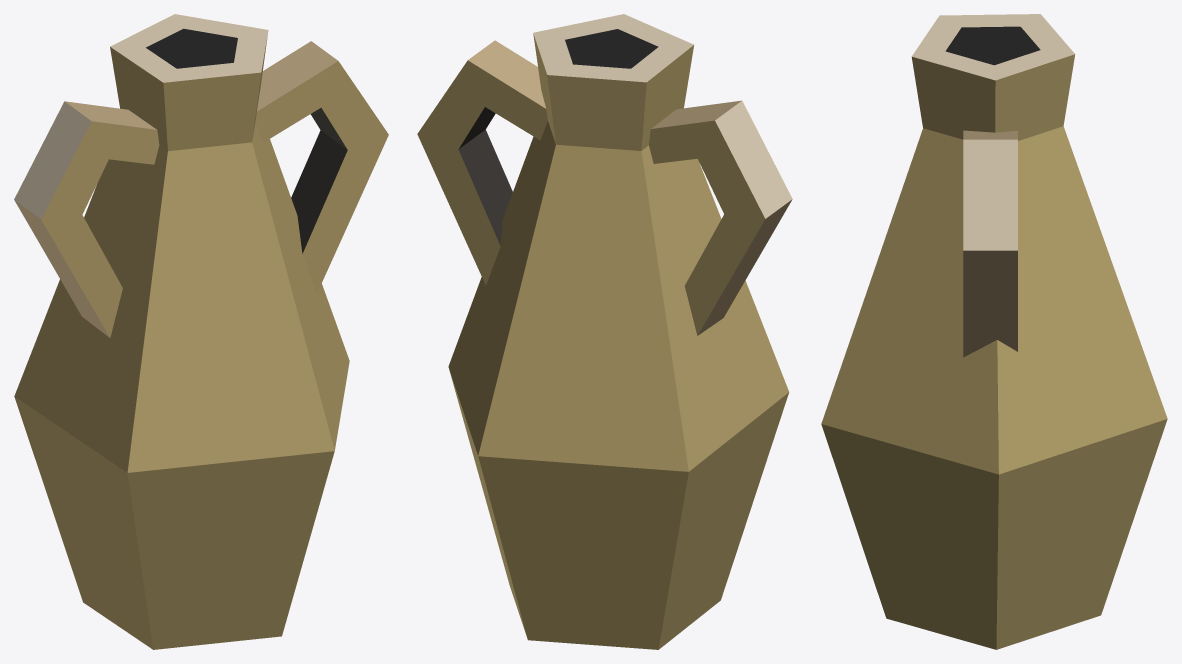
Rendered from TB_D_Prop_Jar_A.FBX.
3 views of the same model, side by side, from view 1: azimuth 30°, elevation 25°; view 2: azimuth 150°, elevation 25°; view 3: azimuth 270°, elevation 25° (orthographic).
Visible parts, largest first — view 1: TB_D_Prop_Jar_A; view 2: TB_D_Prop_Jar_A; view 3: TB_D_Prop_Jar_A.
Boxes of the visible parts, x1,y1,x2,y2 form: TB_D_Prop_Jar_A: [14, 14, 388, 649]; TB_D_Prop_Jar_A: [417, 14, 792, 649]; TB_D_Prop_Jar_A: [821, 14, 1167, 649].
Size of the model in its own units: 1.1 by 1.69 by 0.9506.
